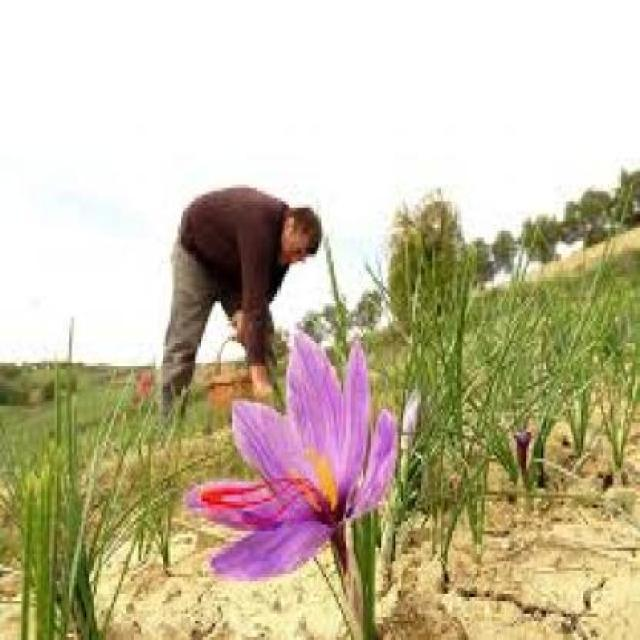Flower: (196, 334, 398, 578)
stigma: (240, 498, 296, 534), (198, 478, 300, 496)
